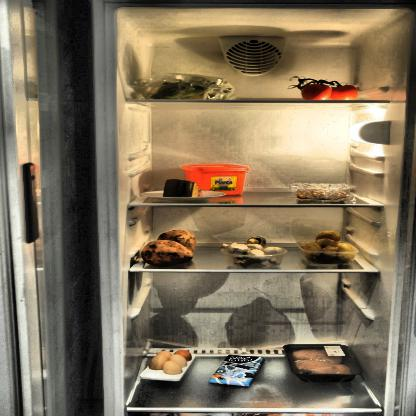butter: (182, 162, 248, 200)
cheese: (163, 180, 207, 198)
chicken: (286, 345, 366, 385)
chocolate: (206, 354, 266, 387)
eggs: (148, 346, 188, 376)
green_beans: (142, 76, 233, 101)
mushrooms: (217, 236, 289, 268)
potato: (299, 230, 359, 262)
shrimp: (296, 182, 357, 204)
sweet_potato: (142, 228, 198, 266)
tomato: (295, 78, 365, 102)
